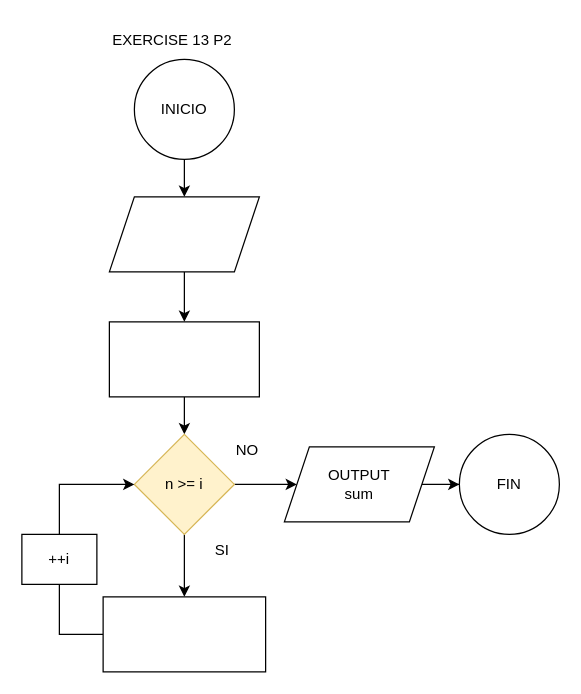
The diagram is 581 pixels wide and 694 high, and some of its shapes have lost their labels. Here are the shapes that lost their labels. From the top down, the centre of each, then its label:
At (183,234): "INPUT n, k".
At (183,359): "sum = 0 i = 1".
At (184,634): "sum = sum + pow(i, k)".
